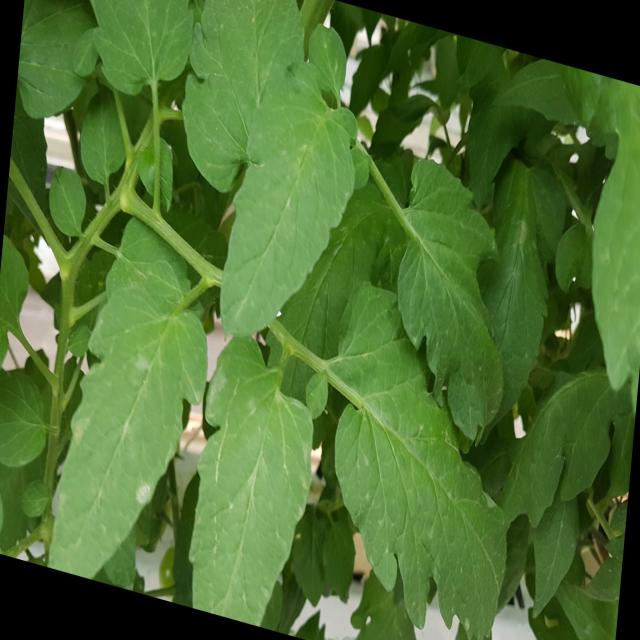Healthy Leaf: (331, 258, 516, 640), (51, 229, 209, 629), (169, 278, 337, 640), (204, 63, 382, 364), (384, 118, 533, 464), (97, 1, 198, 125), (44, 151, 97, 252)
